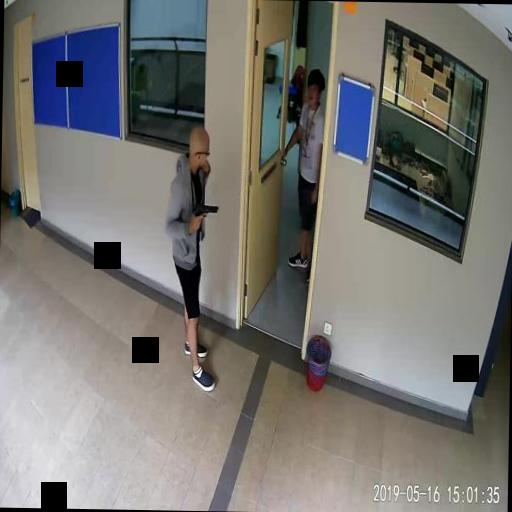Handgun: (194, 201, 216, 229)
